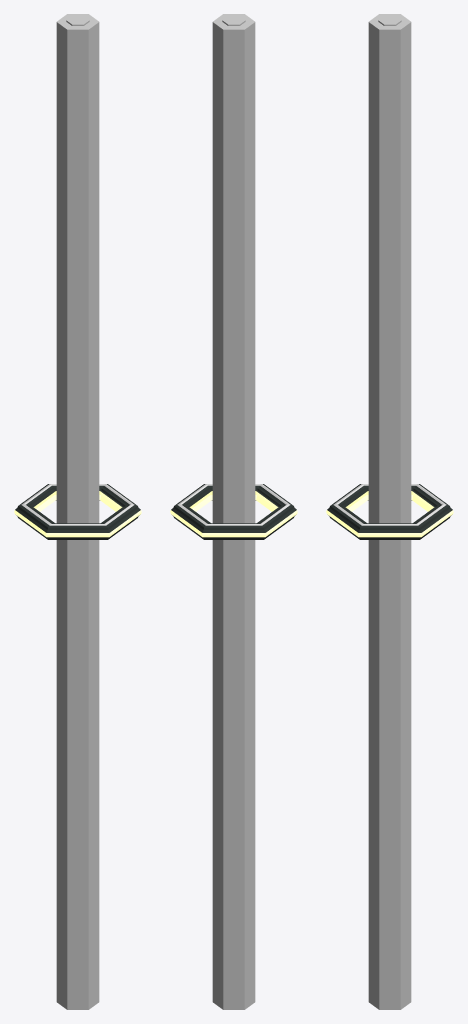
The model's file is tubes.fbx.
3 views of the same model, side by side, from view 1: azimuth 90°, elevation 25°; view 2: azimuth 210°, elevation 25°; view 3: azimuth 270°, elevation 25° (orthographic).
Visible parts, largest first — view 1: Cylinder.001, Cylinder; view 2: Cylinder.001, Cylinder; view 3: Cylinder.001, Cylinder.
Part boxes in pixels (x1,y1,x2,y2): Cylinder.001: [56, 14, 99, 1009]; Cylinder: [14, 484, 141, 539]; Cylinder.001: [212, 14, 255, 1009]; Cylinder: [170, 484, 297, 539]; Cylinder.001: [368, 14, 411, 1009]; Cylinder: [326, 484, 453, 539].
Size of the model in its own units: 192 by 1883 by 221.
